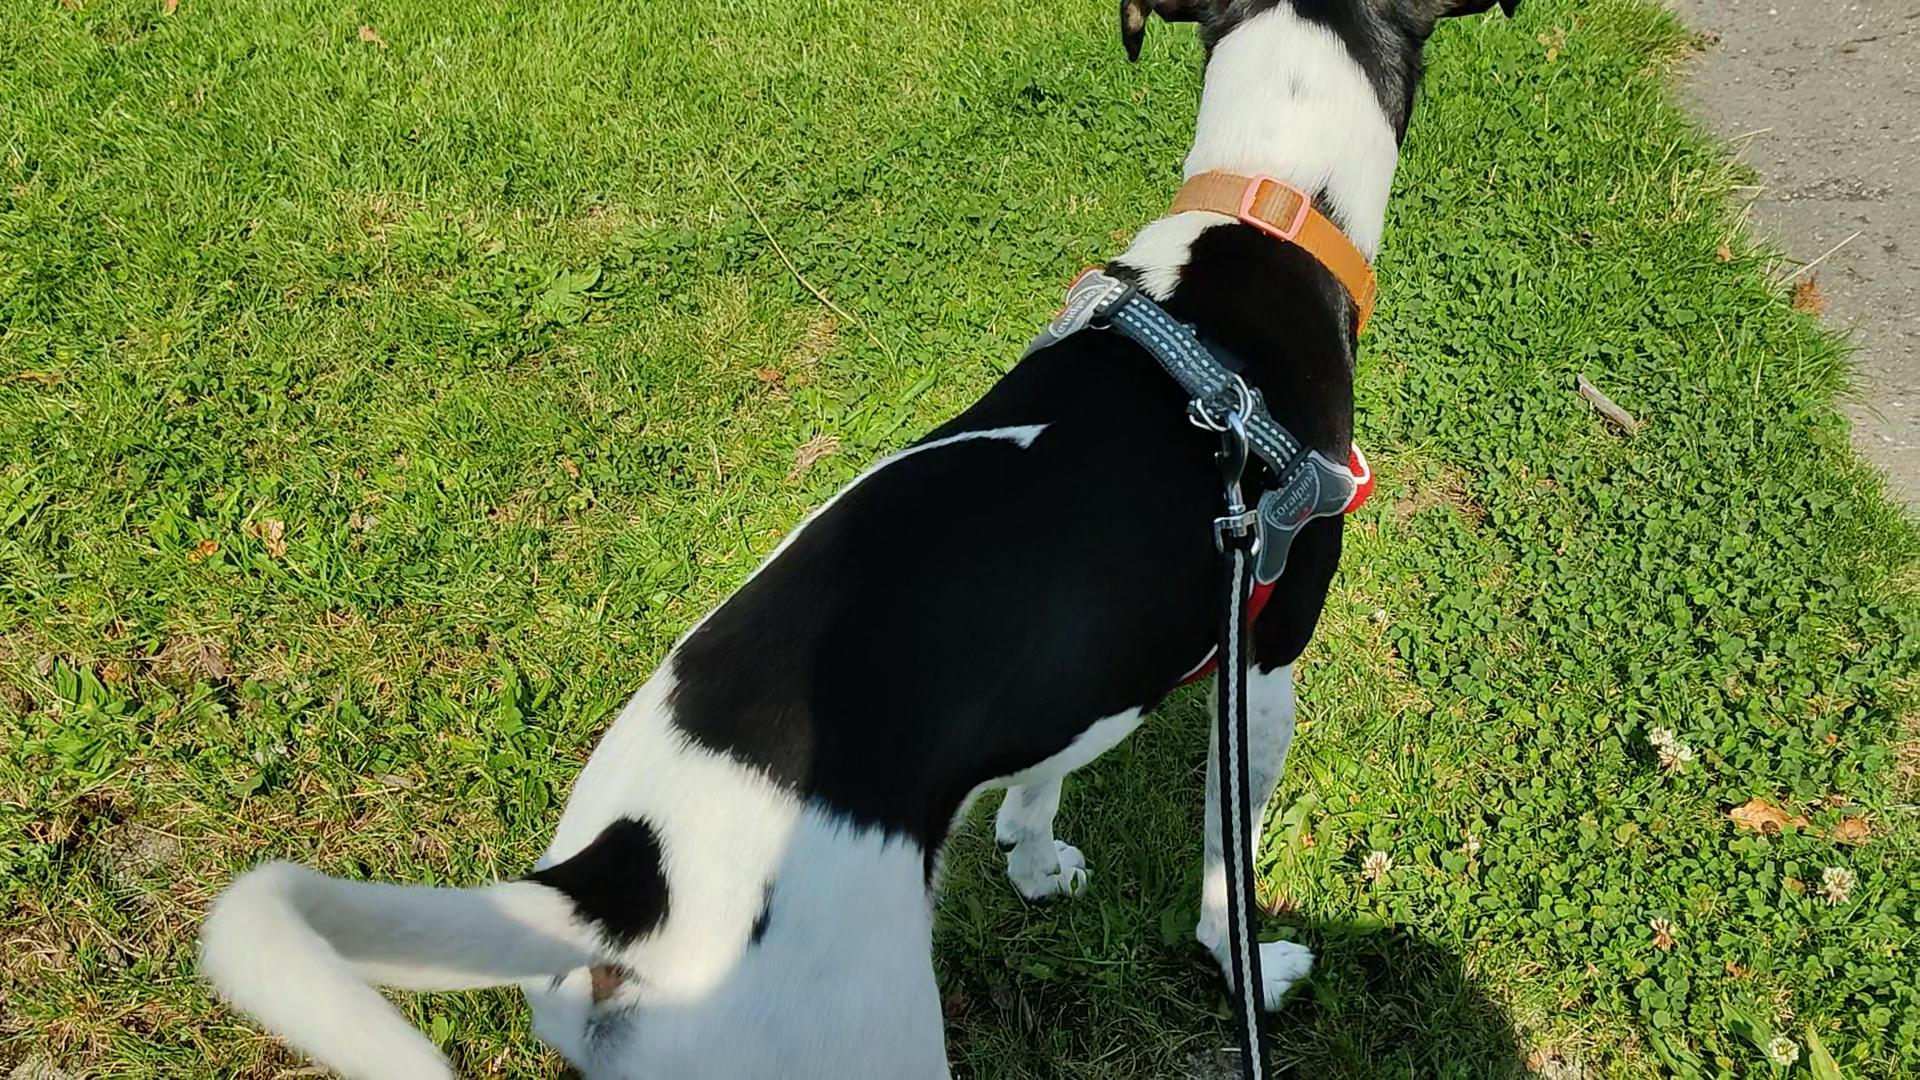Dog: (194, 0, 1531, 1079)
